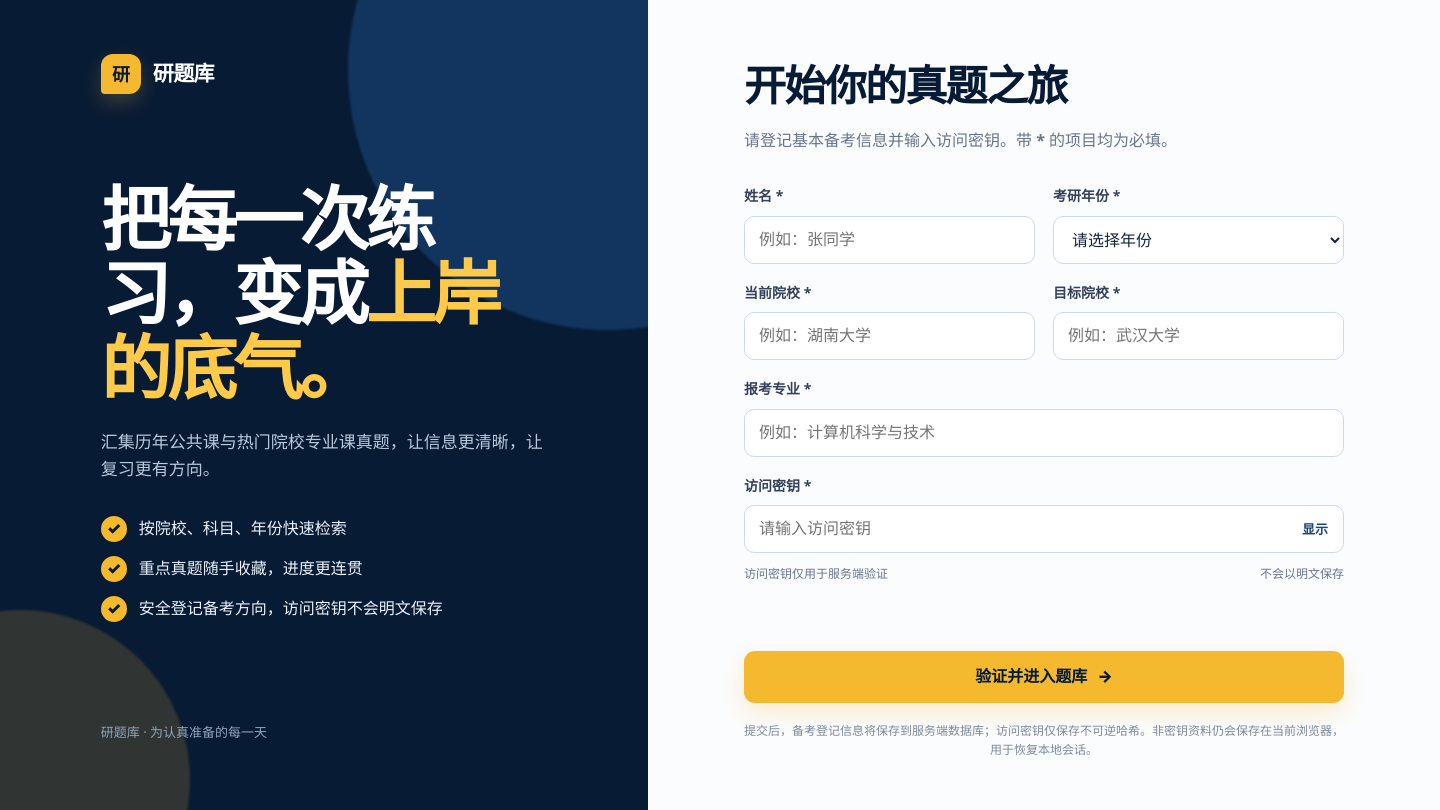
SessionGate › keeps the form and shows the API error when registration fails
Step 1. Type "张同学" into the field labelled "姓名 *" → (890,240), box [744,216,1035,264]
Step 2. Select "2027 届" in the dropdown labelled "考研年份 *" → (1198,240), box [1053,216,1344,264]
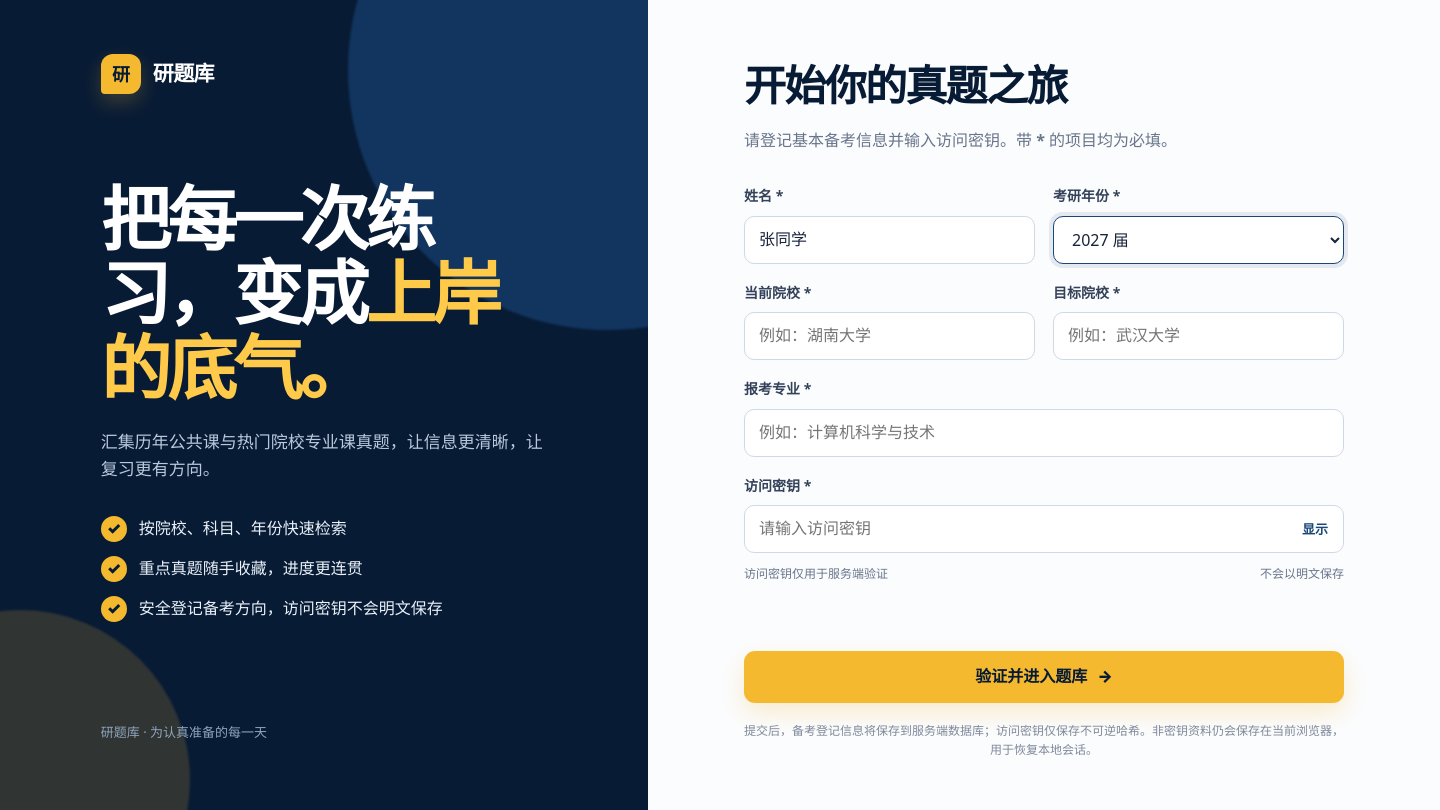
Step 3. Type "湖南大学" into the field labelled "当前院校 *" → (890,336), box [744,312,1035,360]
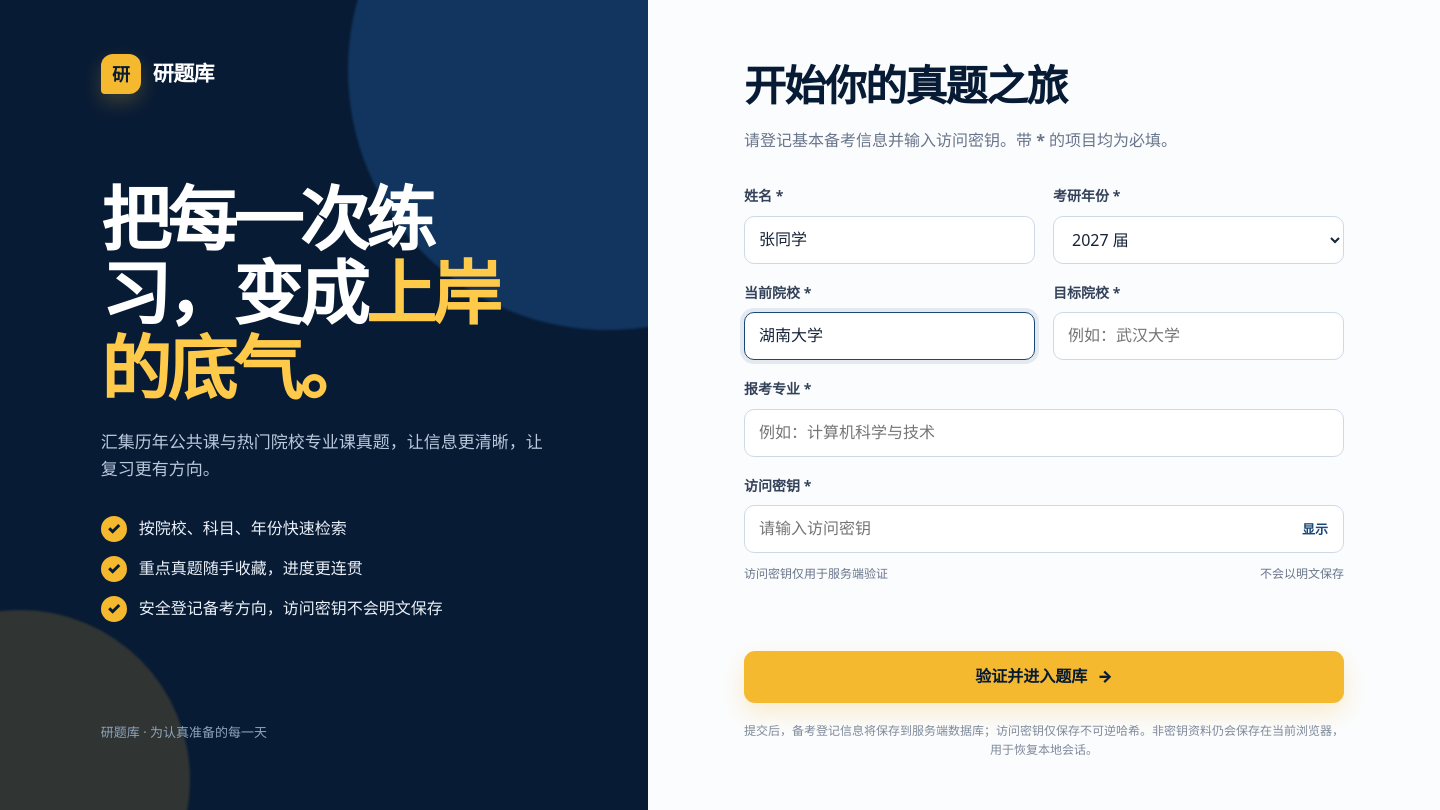
Step 4. Type "武汉大学" into the field labelled "目标院校 *" → (1198,336), box [1053,312,1344,360]
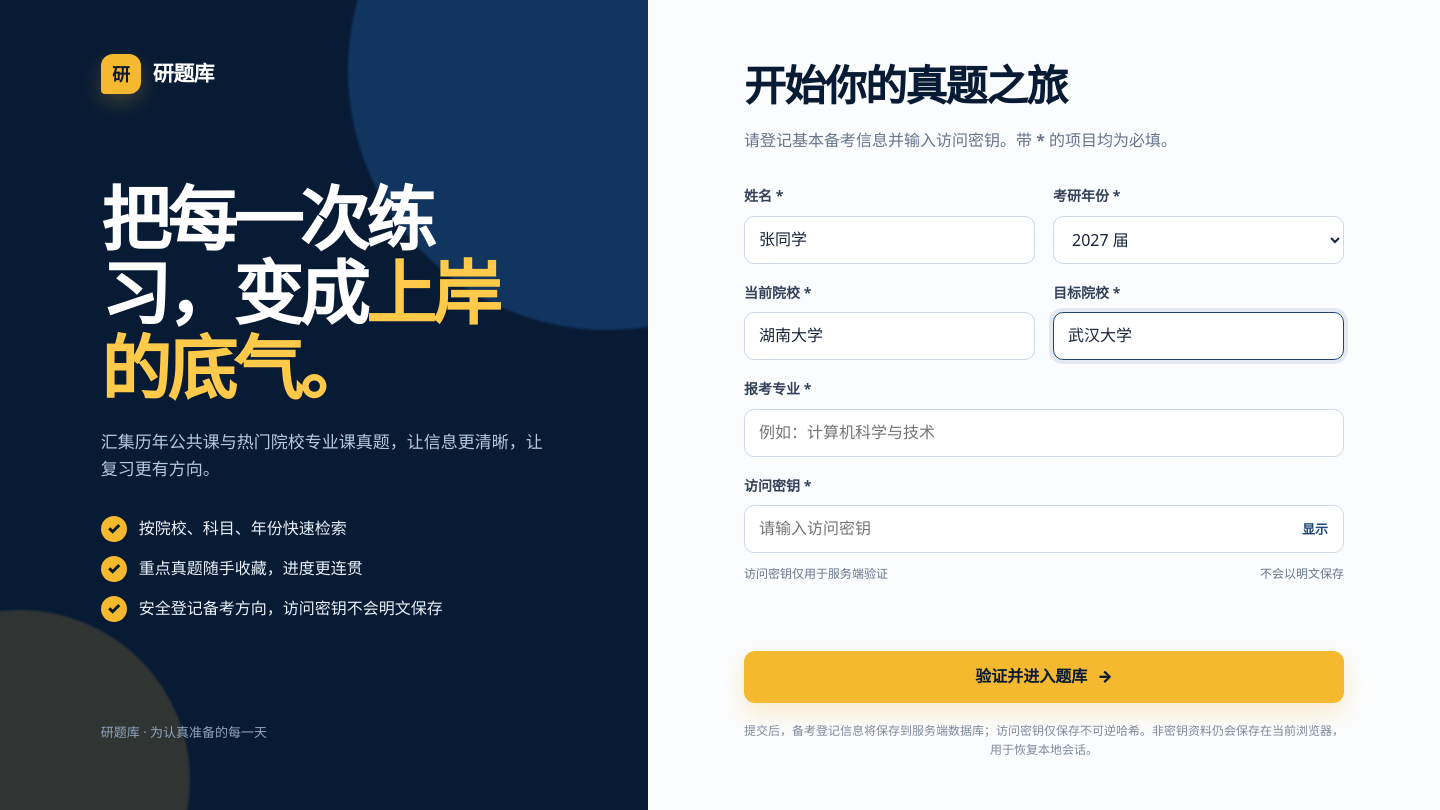
Step 5. Type "计算机科学与技术" into the field labelled "报考专业 *" → (1044,432), box [744,408,1344,456]
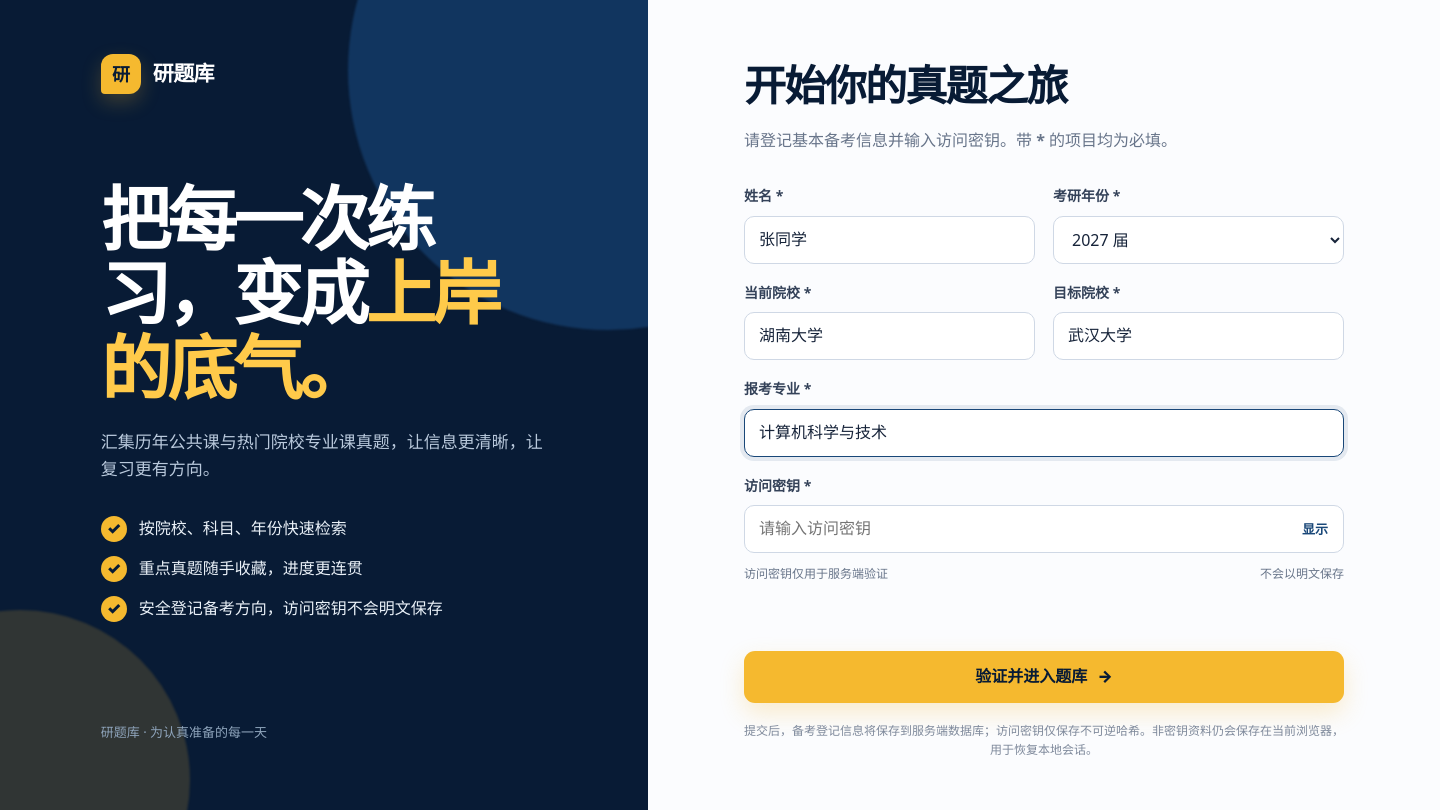
Step 6. Type "KY2027" into the password field labelled "访问密钥 *" → (1044,529), box [744,505,1344,553]
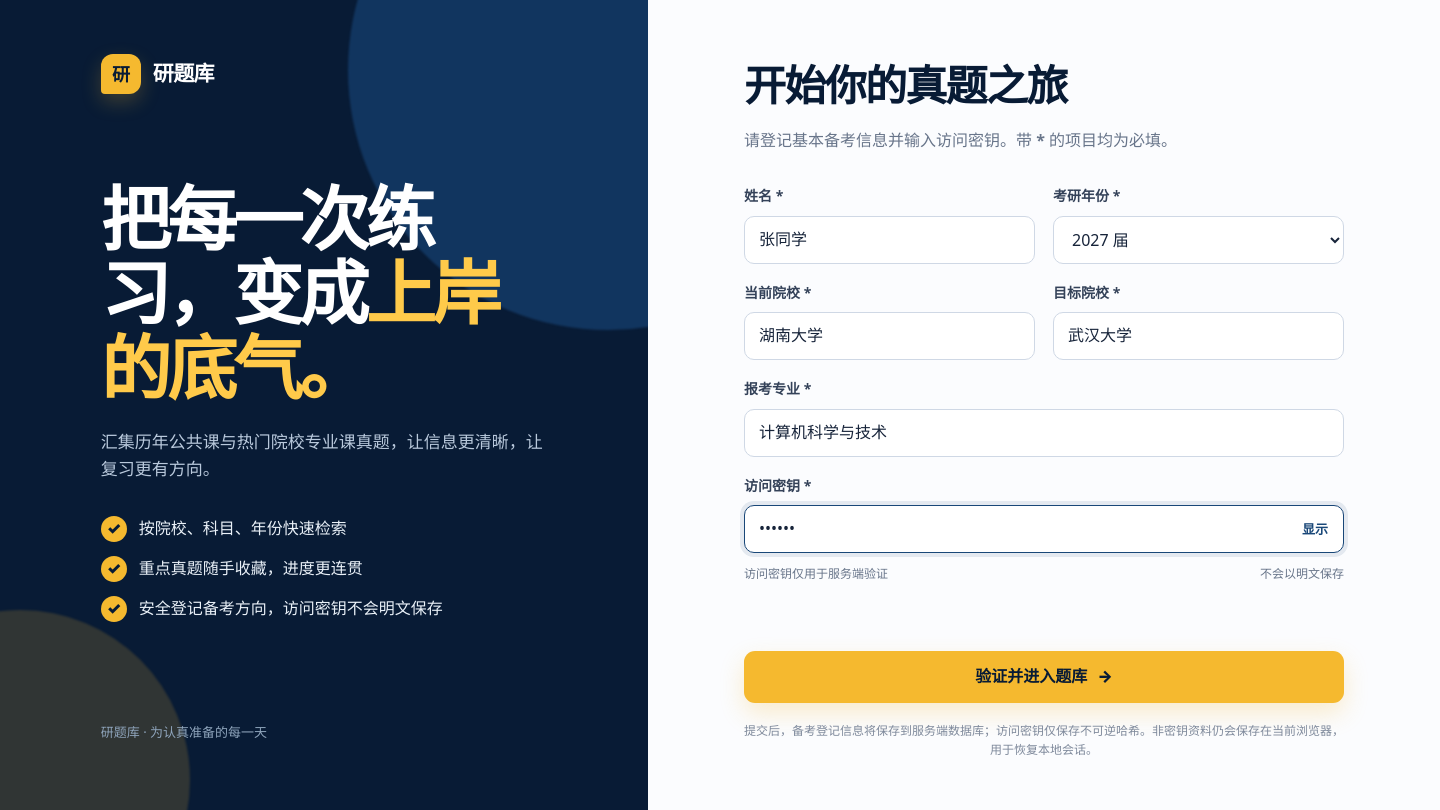
Step 7. Click the button "验证并进入题库 →" → (1044,677), box [744,651,1344,703]
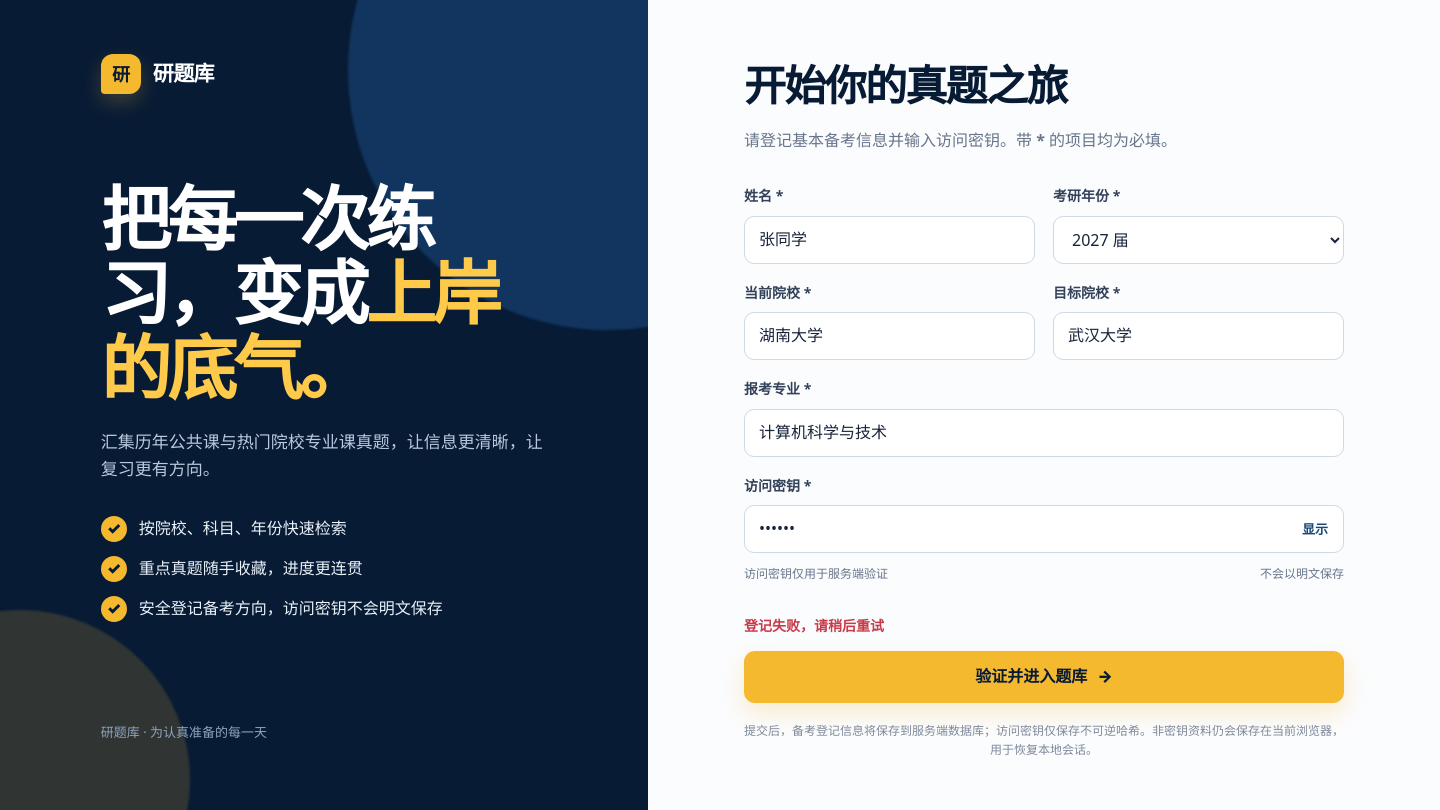
Expected: the heading "开始你的真题之旅" is shown, [744,56,1067,112]
Expected: the message reads "登记失败，请稍后重试", [744,616,884,635]
